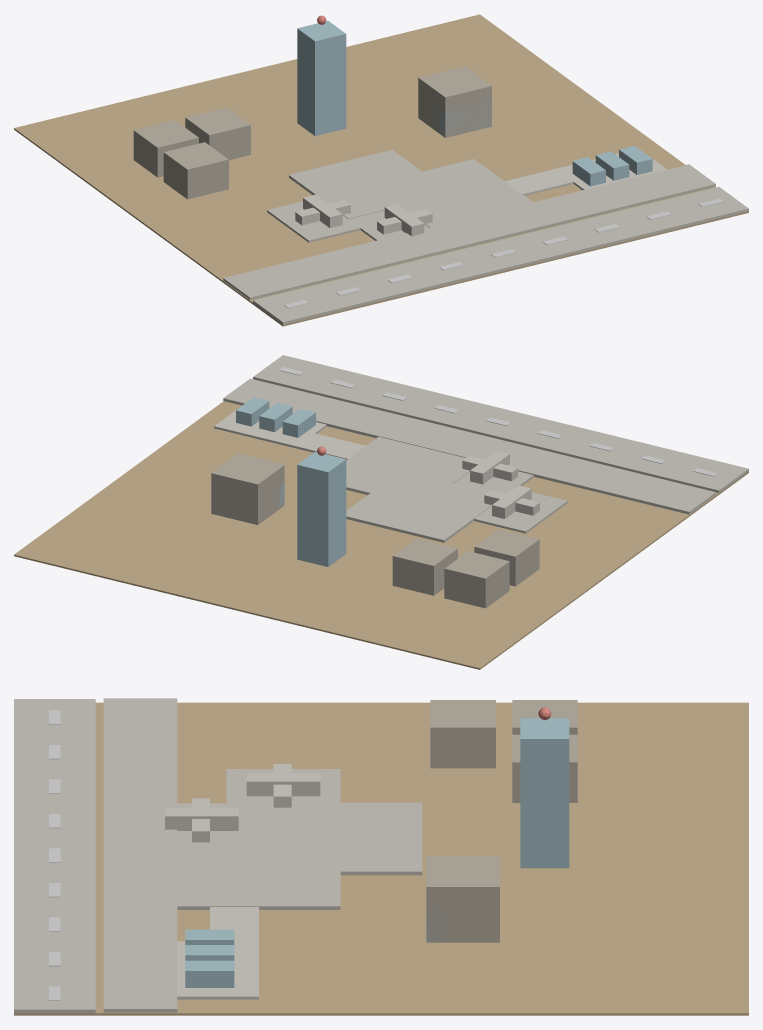
Rendered from stage_12.glb.
The picture shows the model from 3 angles, top to bottom: view 1: azimuth 30°, elevation 25°; view 2: azimuth 150°, elevation 25°; view 3: azimuth 270°, elevation 25°; orthographic projection. The views are drawn at different scales.
Visible parts, largest first — view 1: geometry_0; view 2: geometry_0; view 3: geometry_0.
Part boxes in pixels (<box>): geometry_0: <box>14,14,748,326</box>; geometry_0: <box>14,355,748,669</box>; geometry_0: <box>14,698,748,1015</box>.
Bounding box in the file's own units: 9 × 2.06 × 9.
